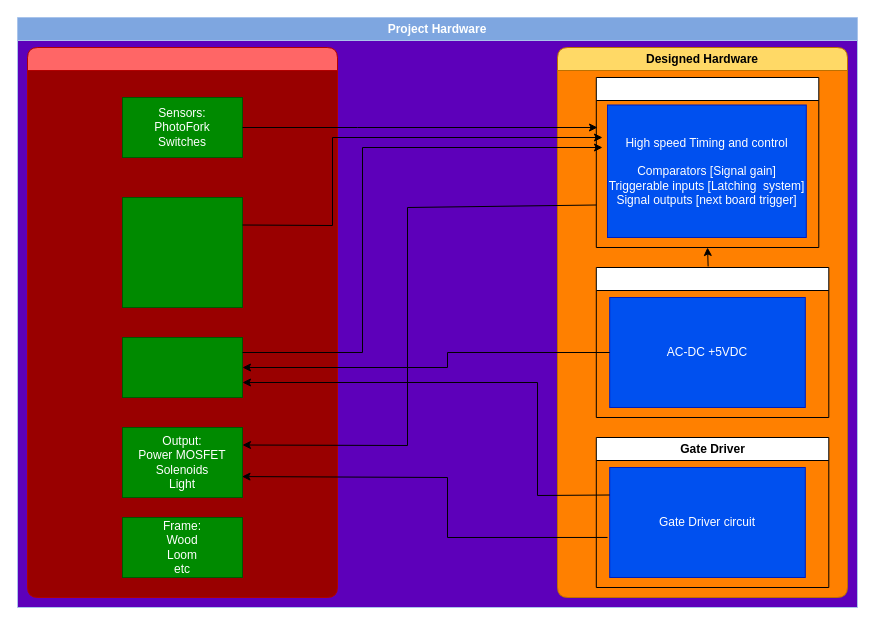
Some shapes in this 875 by 625 pixel diagram are drawn without their labels. The box of each missing label's shape, as (x1, y1, x2, y2) in pixels:
5V Power: (595, 266, 829, 418)
PCBs: (595, 76, 819, 248)
Power: Capacitor Bank AC-DC +/-15VDC Transformer: (122, 196, 242, 308)
Processing: Arduino Mega R3 Seven Segment: (122, 336, 242, 398)
Purchased Hardware: (26, 46, 338, 598)
